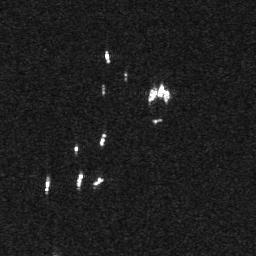ship: (155, 78, 165, 99), (147, 84, 157, 104), (92, 175, 106, 187), (162, 89, 172, 105), (43, 177, 51, 194), (99, 132, 108, 146), (77, 172, 83, 190), (105, 49, 111, 62)
